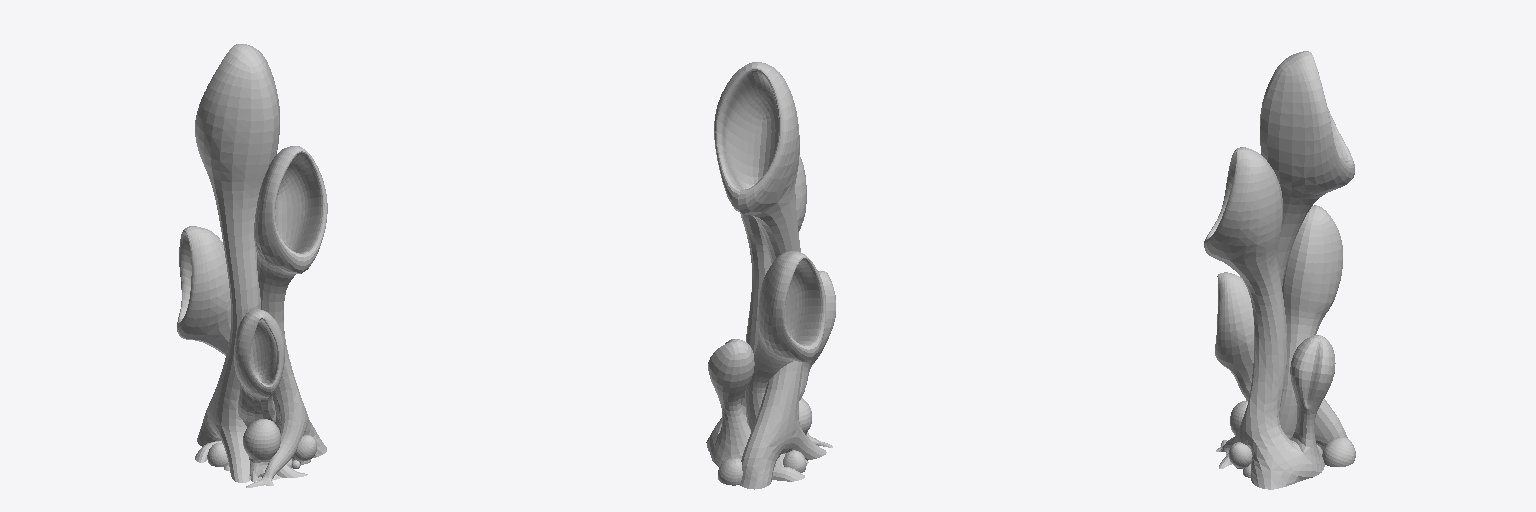
Rendered from tree4.obj.
3 renders of one model, left to right at view 1: azimuth 30°, elevation 25°; view 2: azimuth 150°, elevation 25°; view 3: azimuth 270°, elevation 25°, orthographic.
Visible parts, largest first — view 1: AlienPlant01; view 2: AlienPlant01; view 3: AlienPlant01.
Part boxes in pixels (x1,y1,x2,y2): AlienPlant01: (177,44,327,487); AlienPlant01: (706,62,835,489); AlienPlant01: (1204,51,1355,489).
Bounding box in the file's own units: 7.1 × 21.27 × 7.23.